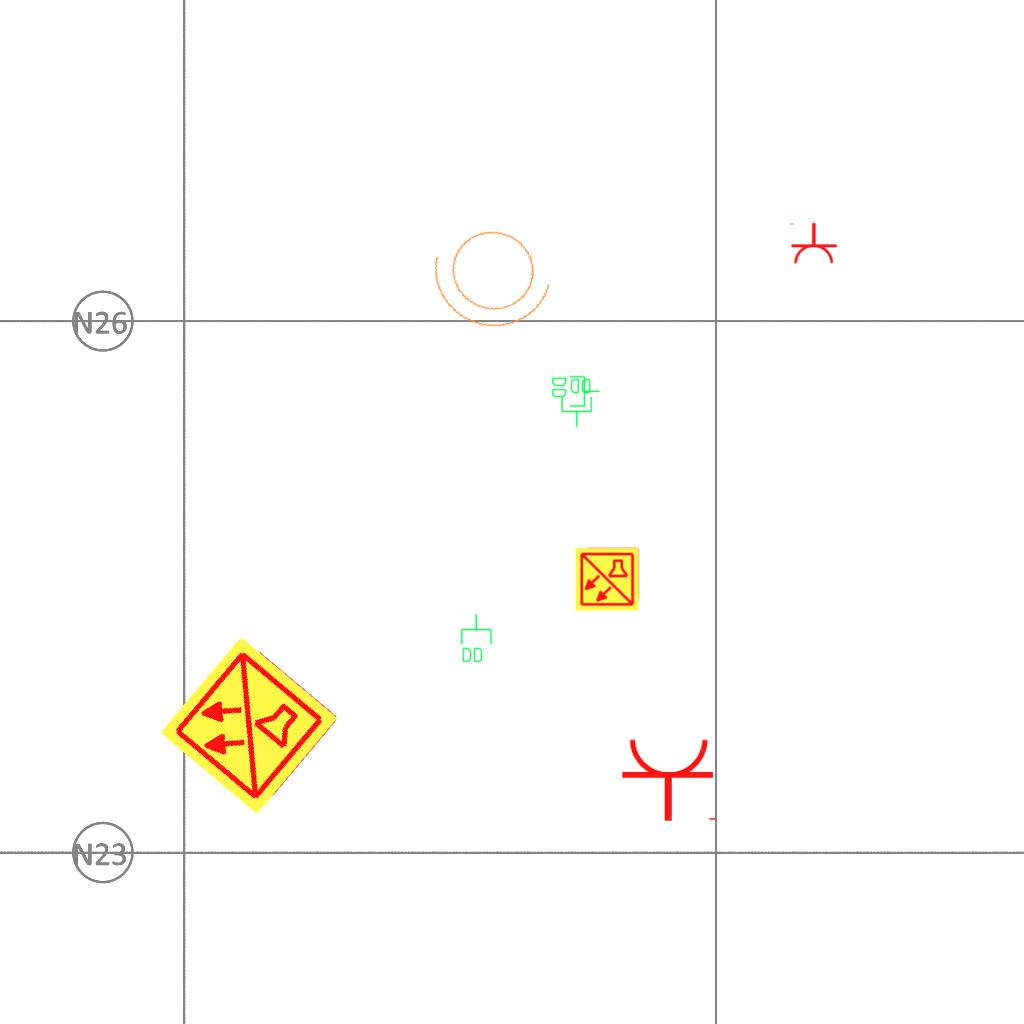Datenanschluss_zweifach: (550, 374, 601, 408), (459, 613, 493, 664), (560, 377, 594, 428)
OKW_Multisensormelder_(Kombination_optischer_Rauch-Kahlenmonoxid_Waerme-Melder): (156, 632, 342, 818), (574, 546, 640, 612)
Scheinwerfer_fuer_Alarmbeleuchtung: (417, 205, 573, 347)
Schukosteckdose_einfach: (620, 736, 720, 823), (788, 222, 838, 265)
